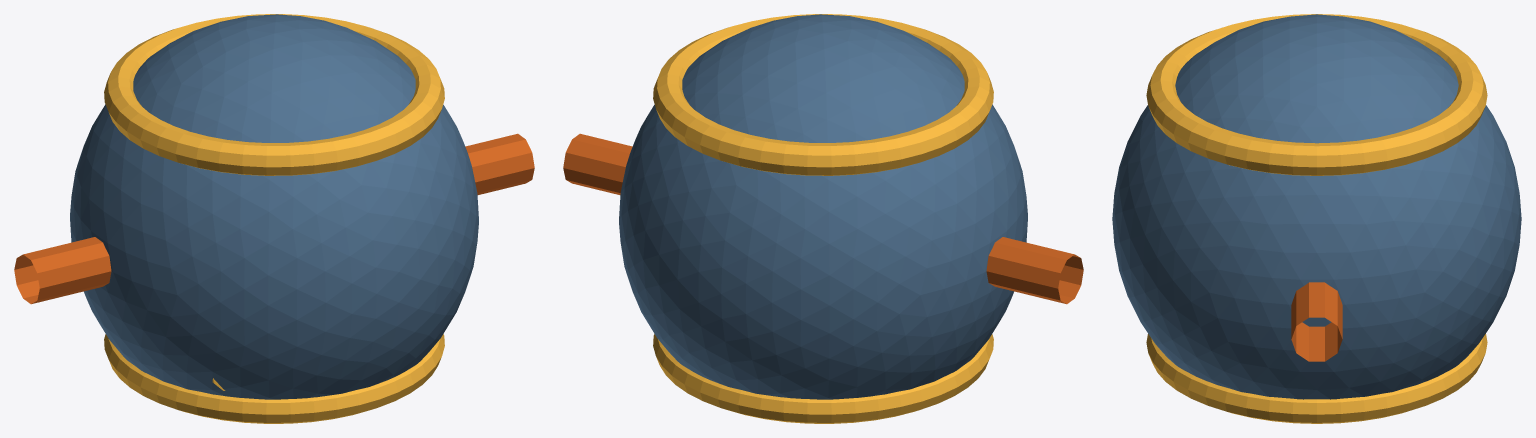
The model's file is 31_L85_PropellantTankB.fbx.
3 views of the same model, side by side, from view 1: azimuth 30°, elevation 25°; view 2: azimuth 150°, elevation 25°; view 3: azimuth 270°, elevation 25° (orthographic).
Visible parts, largest first — view 1: L85_PropellantTankB; view 2: L85_PropellantTankB; view 3: L85_PropellantTankB.
Part boxes in pixels (x1,y1,x2,y2): L85_PropellantTankB: (14, 14, 534, 423); L85_PropellantTankB: (563, 14, 1083, 423); L85_PropellantTankB: (1112, 14, 1521, 423).
Bounding box in the file's own units: 134 × 96 × 96.
